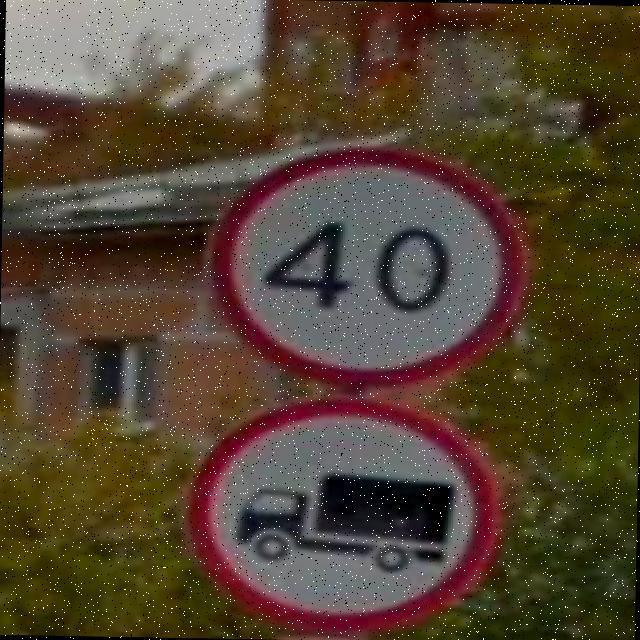Ograniczenie predkosci do 40: (202, 144, 526, 388)
